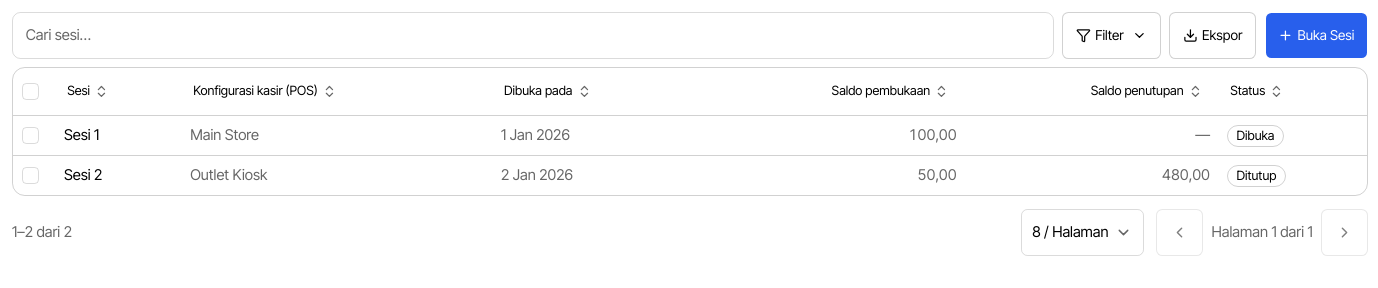
it: PosSessionsSection › filters sessions through the search box
The image size is (1378, 288).
Type "2" into the search field with placeholder "Cari sesi…" at point(533, 35), box [12,12,1054,59]
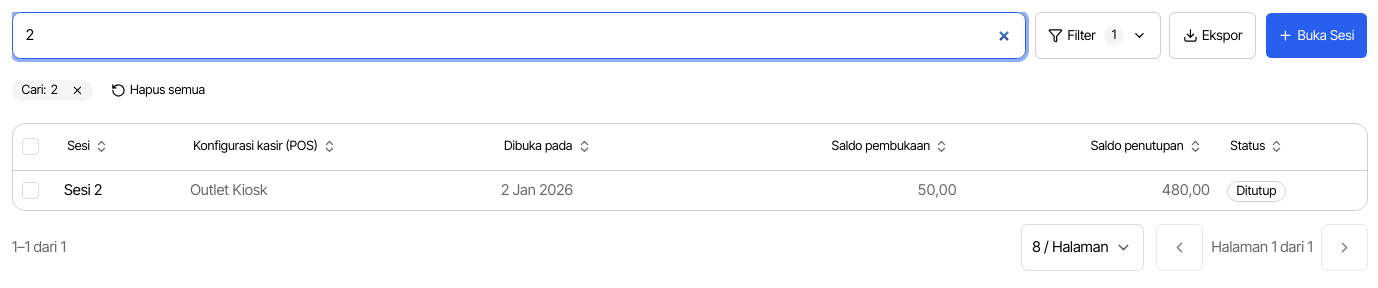
Check: the link "Sesi 2" is shown, box [64,181,102,199]
Check: the number of links "Sesi 2" is 1, box [64,181,102,199]
